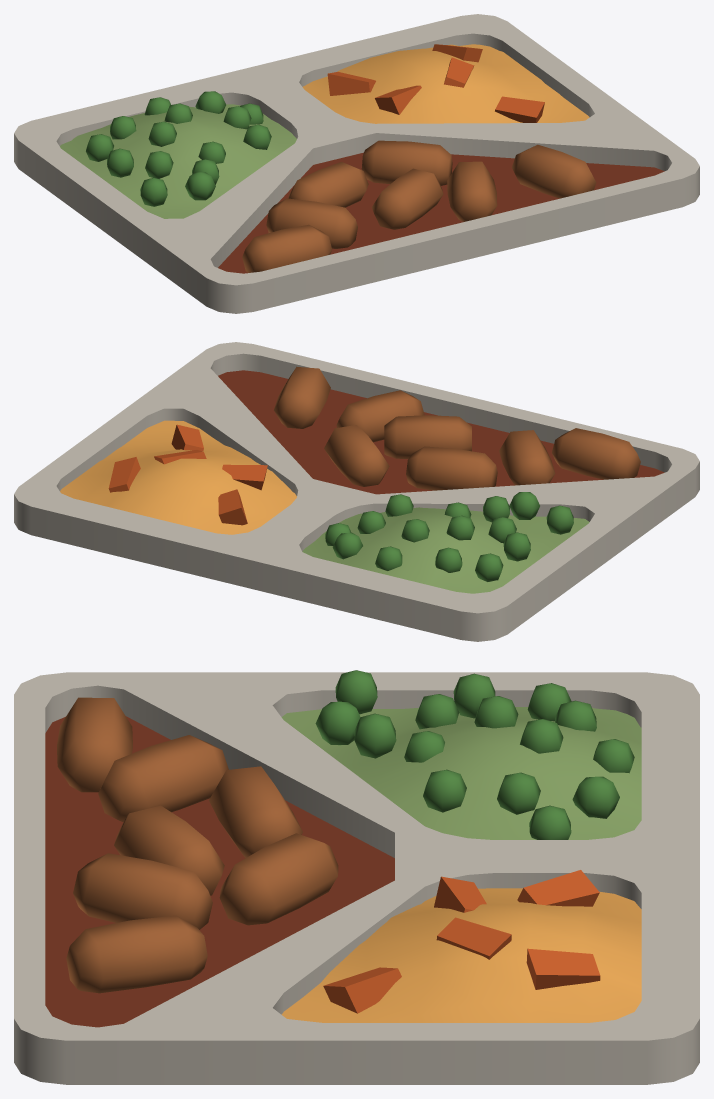
The model's file is InstantMeal_01.fbx.
The picture shows the model from 3 angles, top to bottom: view 1: azimuth 30°, elevation 25°; view 2: azimuth 150°, elevation 25°; view 3: azimuth 270°, elevation 25°; orthographic projection. The views are drawn at different scales.
Parts seen in each view (by area): view 1: InstantMeal_01; view 2: InstantMeal_01; view 3: InstantMeal_01.
Part boxes in pixels (<box>): InstantMeal_01: <box>14,14,699,313</box>; InstantMeal_01: <box>14,342,699,641</box>; InstantMeal_01: <box>14,670,699,1084</box>.
Size of the model in its own units: 0.2455 by 0.0286 by 0.1933.
